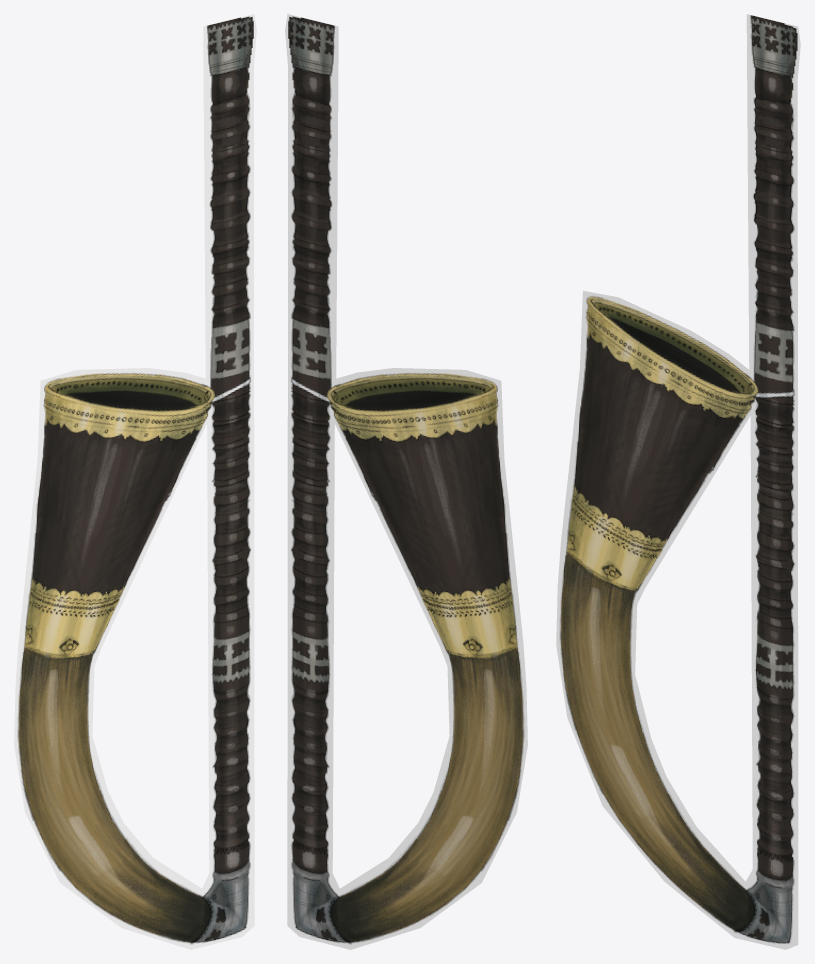
3 renders of one model, left to right at view 1: azimuth 30°, elevation 25°; view 2: azimuth 150°, elevation 25°; view 3: azimuth 330°, elevation 25°, orthographic.
Parts seen in each view (by area): view 1: Plane; view 2: Plane; view 3: Plane.
Boxes of the visible parts, x1=… form: Plane: x1=14, y1=14, x2=256, y2=949; Plane: x1=285, y1=14, x2=527, y2=949; Plane: x1=556, y1=14, x2=800, y2=949.
Bounding box in the file's own units: 1.14 × 4.11 × 0.
Materials: 1 (1 with a texture image).
